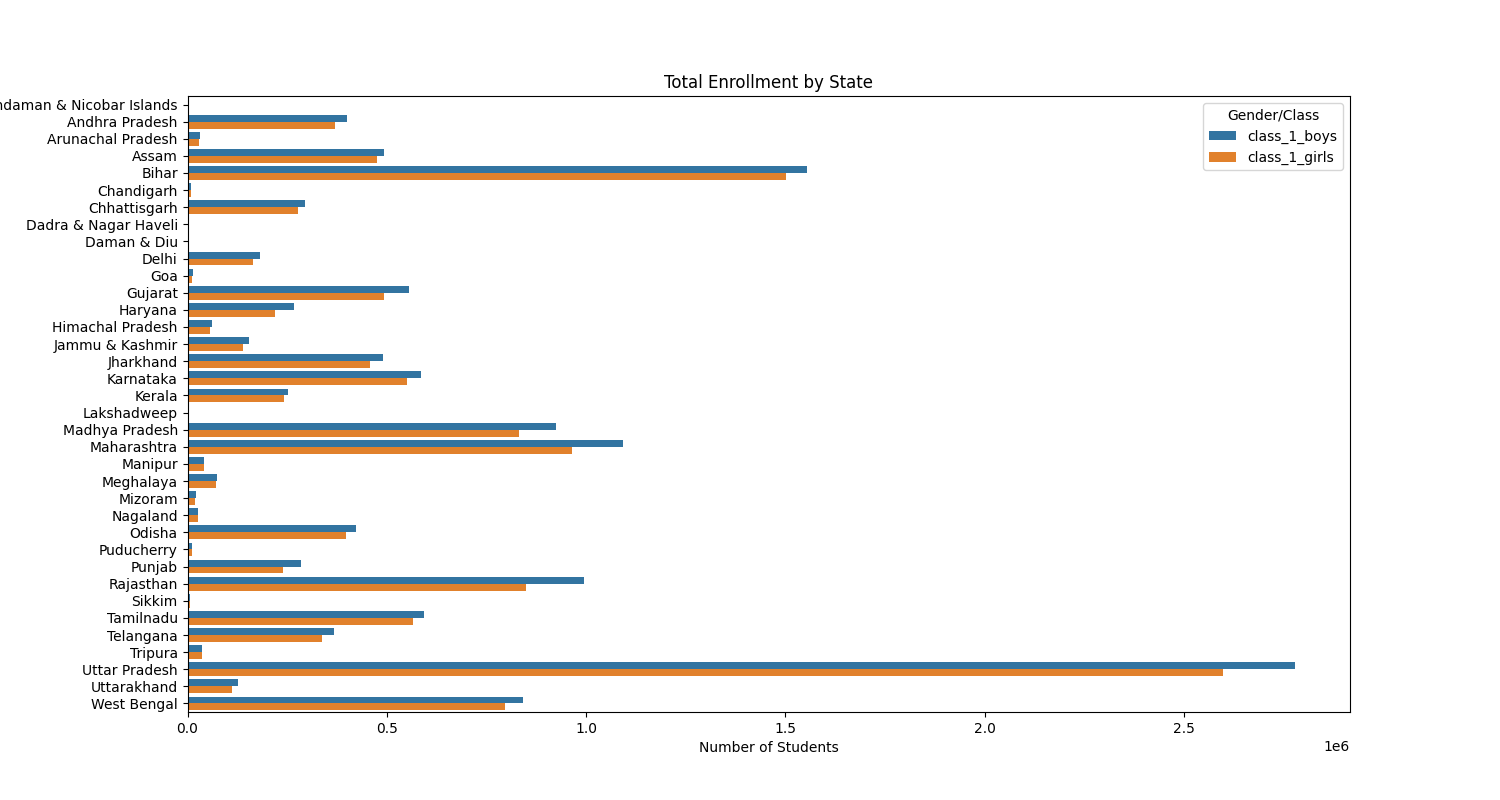

Layout of this report page (visuals, bound fields, positions):
{"tool":"tableau","page":{"name":"Dashboard 1","canvas":[1000,1000],"units":"permille","ordinal":0},"visuals":[{"type":"worksheet","title":"Sheet 2","mark":"Bar","rows":["count"],"cols":["date","date"],"box":[1.8,480.7,991,499.4]}]}

Visuals, with their boxes on the dashboard's canvas, which has no fixed pixel size, in thousandths of its width and height (x1, y1, x2, y2). These are canvas units, not pixel positions in the 1500x800 screenshot, which may show the page scaled, cropped or inside an application window:
"Sheet 2" worksheet (Bar marks): 2 481 993 980
